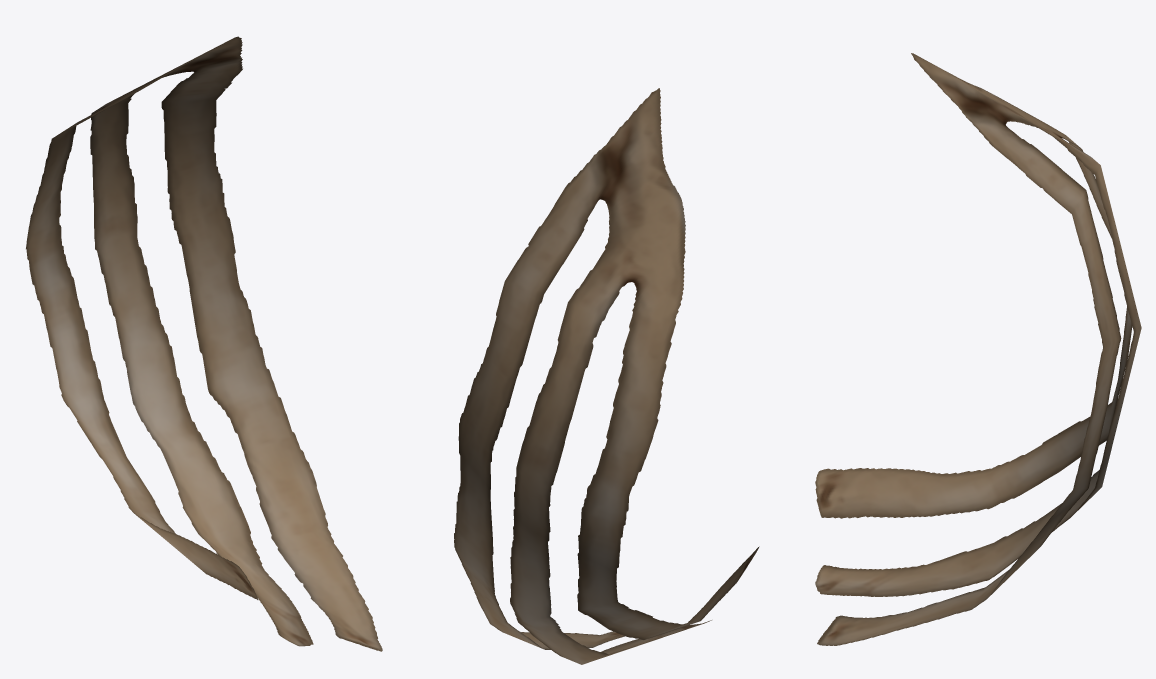
File: MEP_Ribs_01.fbx
The picture shows the model from 3 angles, left to right: view 1: azimuth 30°, elevation 25°; view 2: azimuth 150°, elevation 25°; view 3: azimuth 270°, elevation 25°; orthographic projection. The views are drawn at different scales.
Visible parts, largest first — view 1: MEP_Ribs_01; view 2: MEP_Ribs_01; view 3: MEP_Ribs_01.
Boxes of the visible parts, x1=… form: MEP_Ribs_01: x1=26, y1=36, x2=382, y2=651; MEP_Ribs_01: x1=454, y1=88, x2=759, y2=664; MEP_Ribs_01: x1=815, y1=53, x2=1141, y2=645.
Bounding box in the file's own units: 0.588 × 1.4 × 0.7296.
